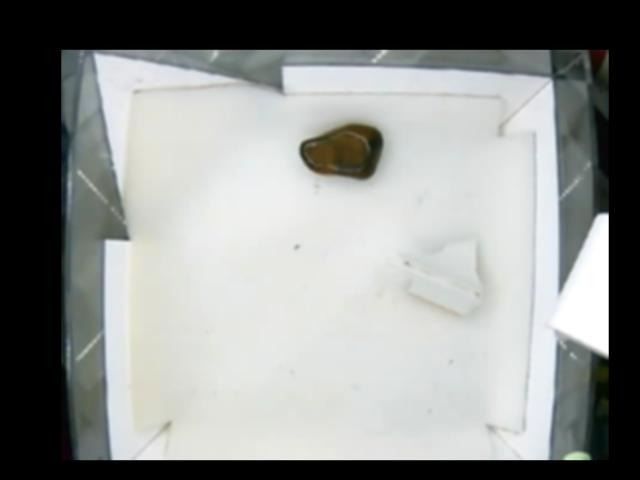China: (388, 237, 485, 311)
Pebble: (299, 123, 385, 180)
